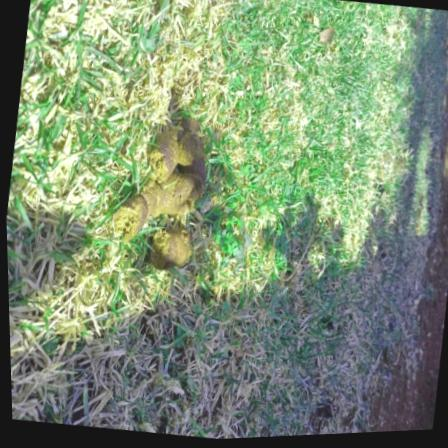dog-poop: (97, 87, 234, 282)
